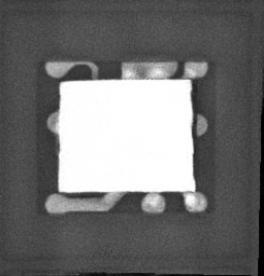DIE_BROKEN: (189, 78, 198, 181)
